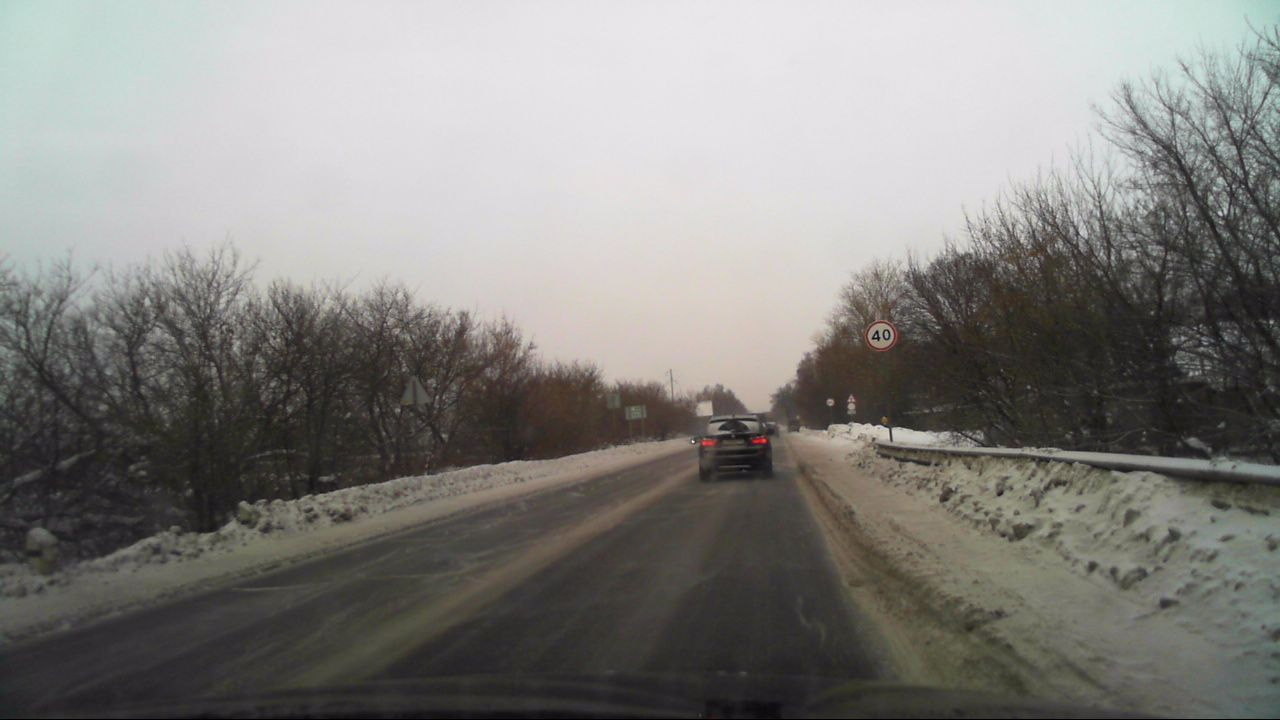speed_warning_40: (865, 319, 896, 351)
